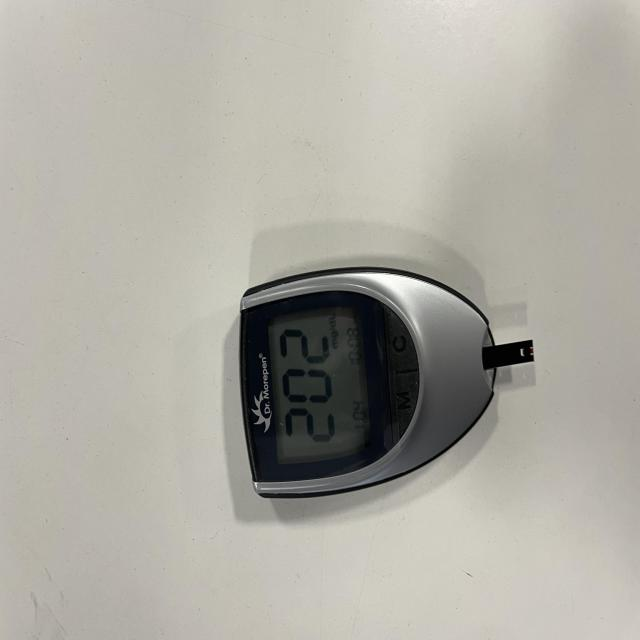gluco: (237, 222, 533, 503)
